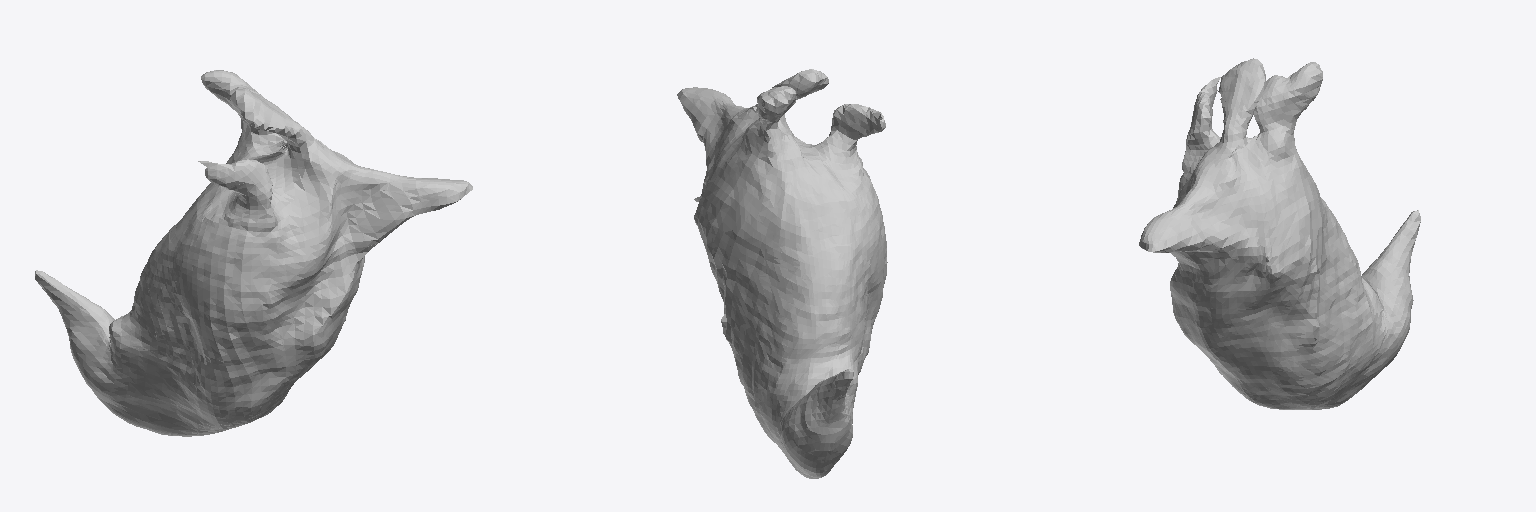
The model's file is fg-00010-geo-color.obj.
3 renders of one model, left to right at view 1: azimuth 30°, elevation 25°; view 2: azimuth 150°, elevation 25°; view 3: azimuth 270°, elevation 25°, orthographic.
Size of the model in its own units: 0.2294 by 0.2609 by 0.1838.